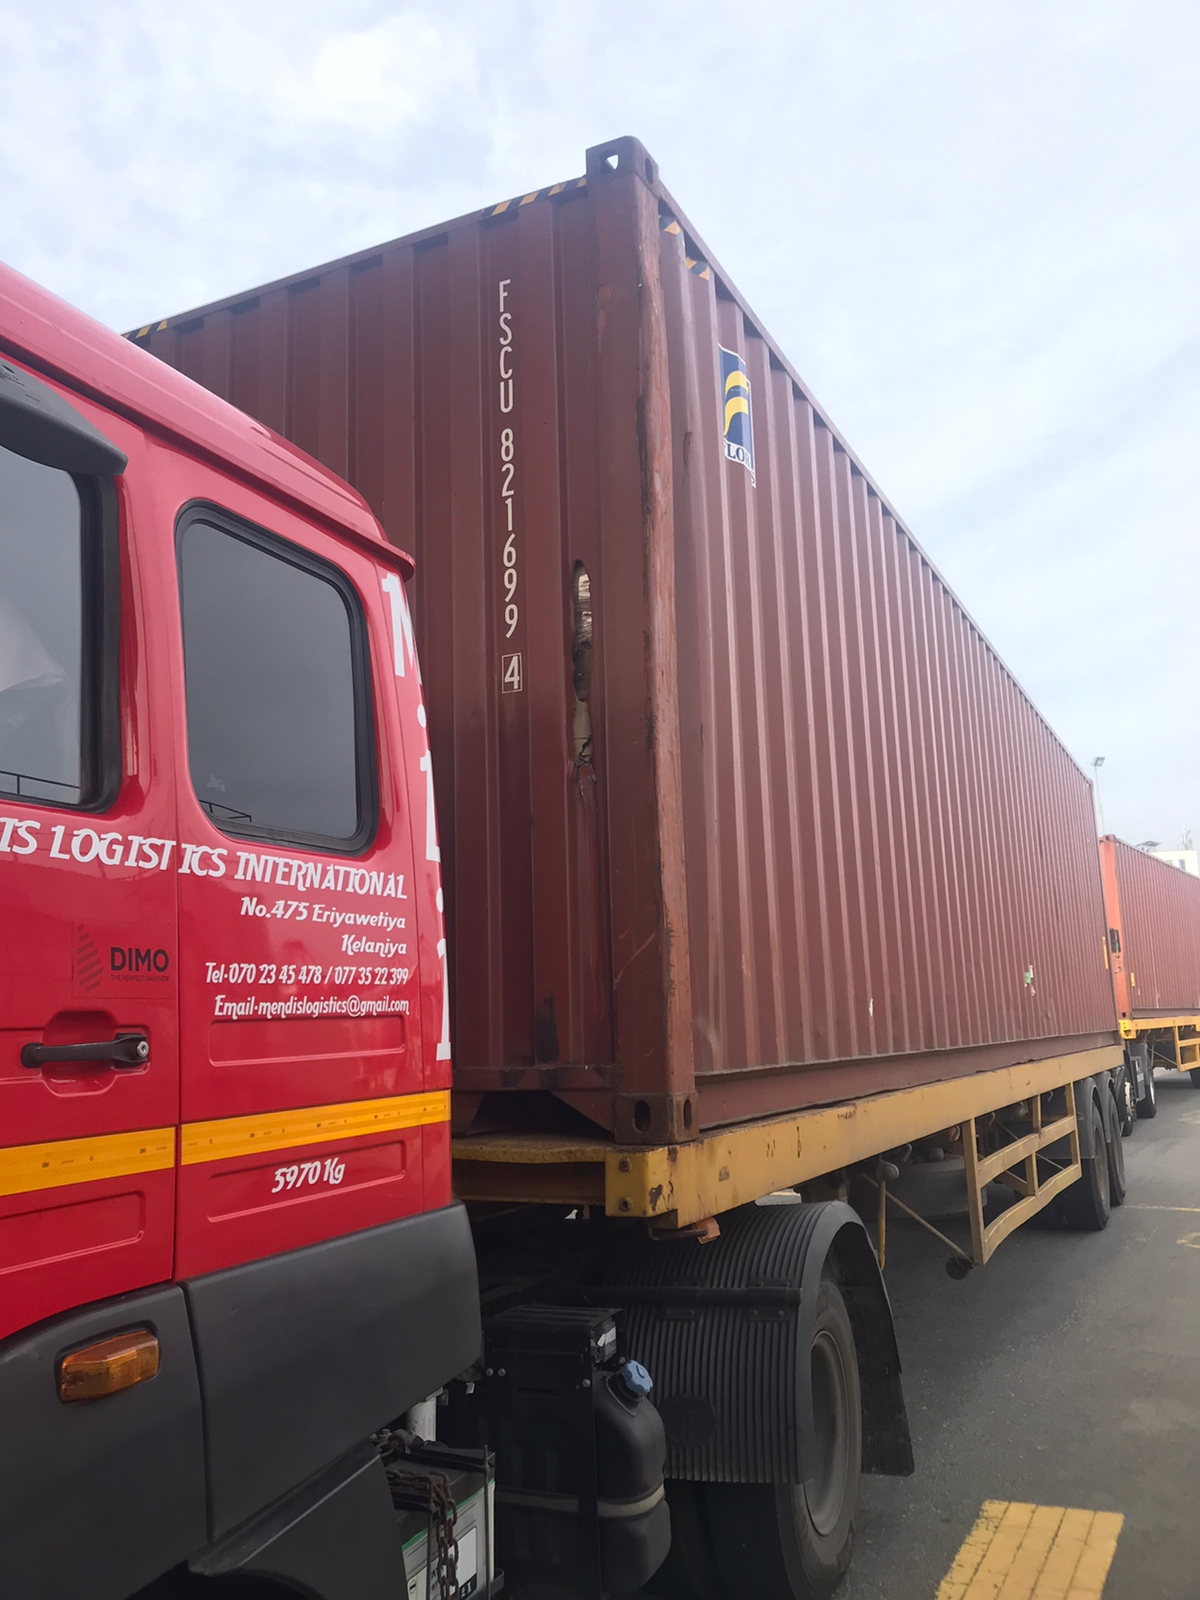front_side: (112, 156, 637, 1095)
left_side: (624, 181, 1145, 1099)
